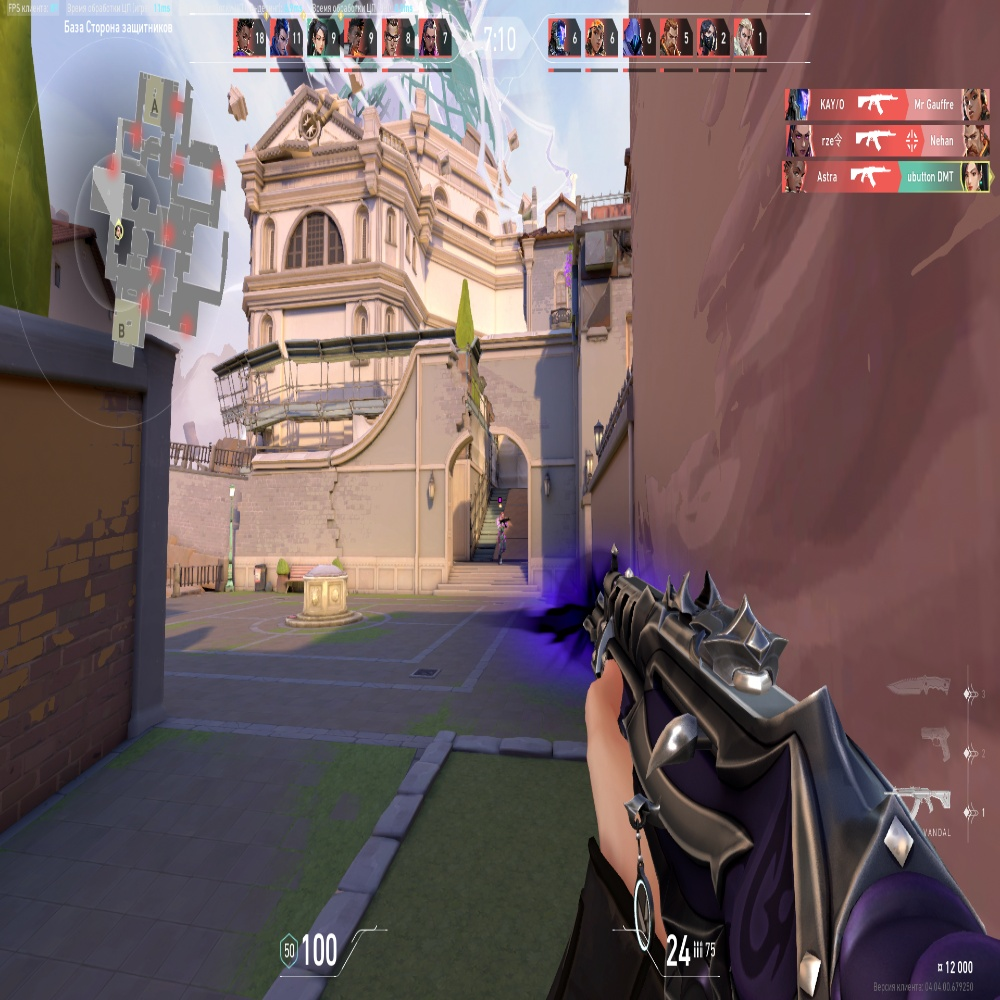body: (497, 519, 505, 539)
head: (501, 513, 504, 519)
